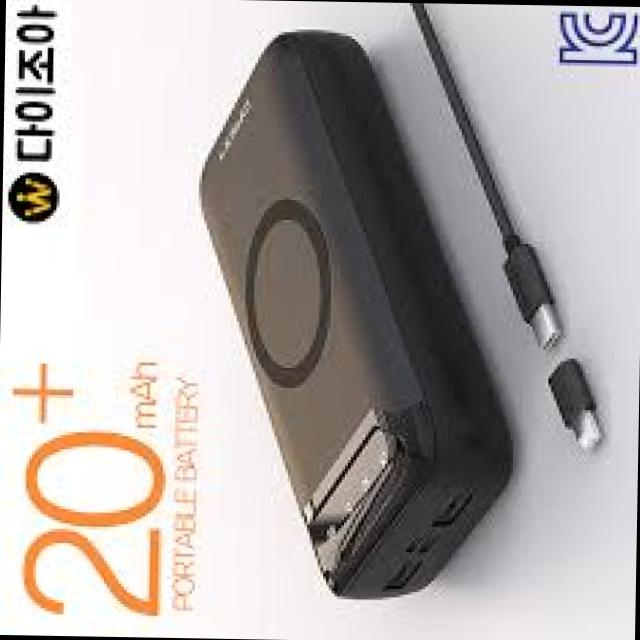portable-charger: (190, 25, 528, 600)
